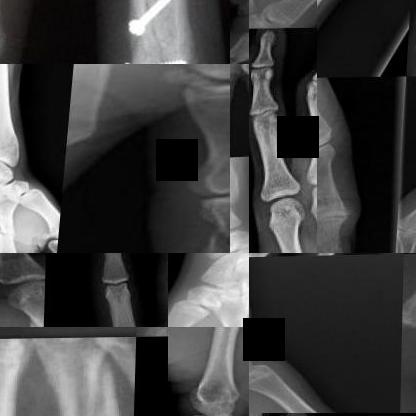fracture: (114, 0, 212, 64), (49, 358, 137, 415), (197, 206, 230, 252), (0, 211, 24, 251), (403, 282, 415, 355), (6, 309, 45, 326)
